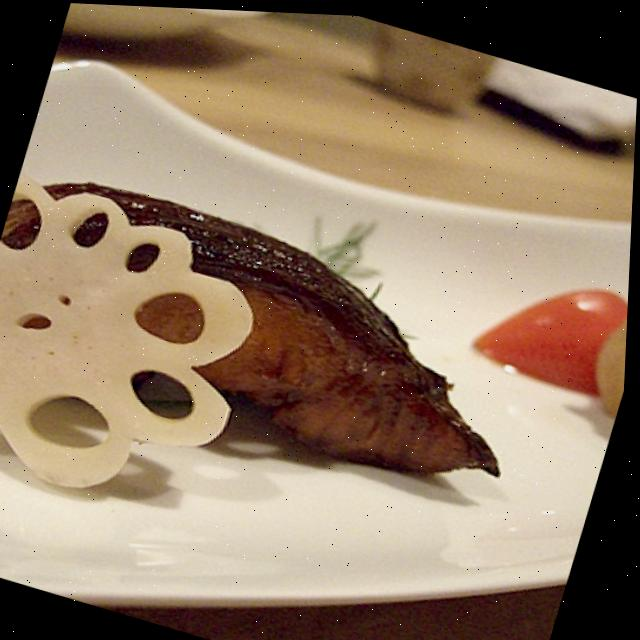熟制海鲜: (0, 110, 559, 556)
